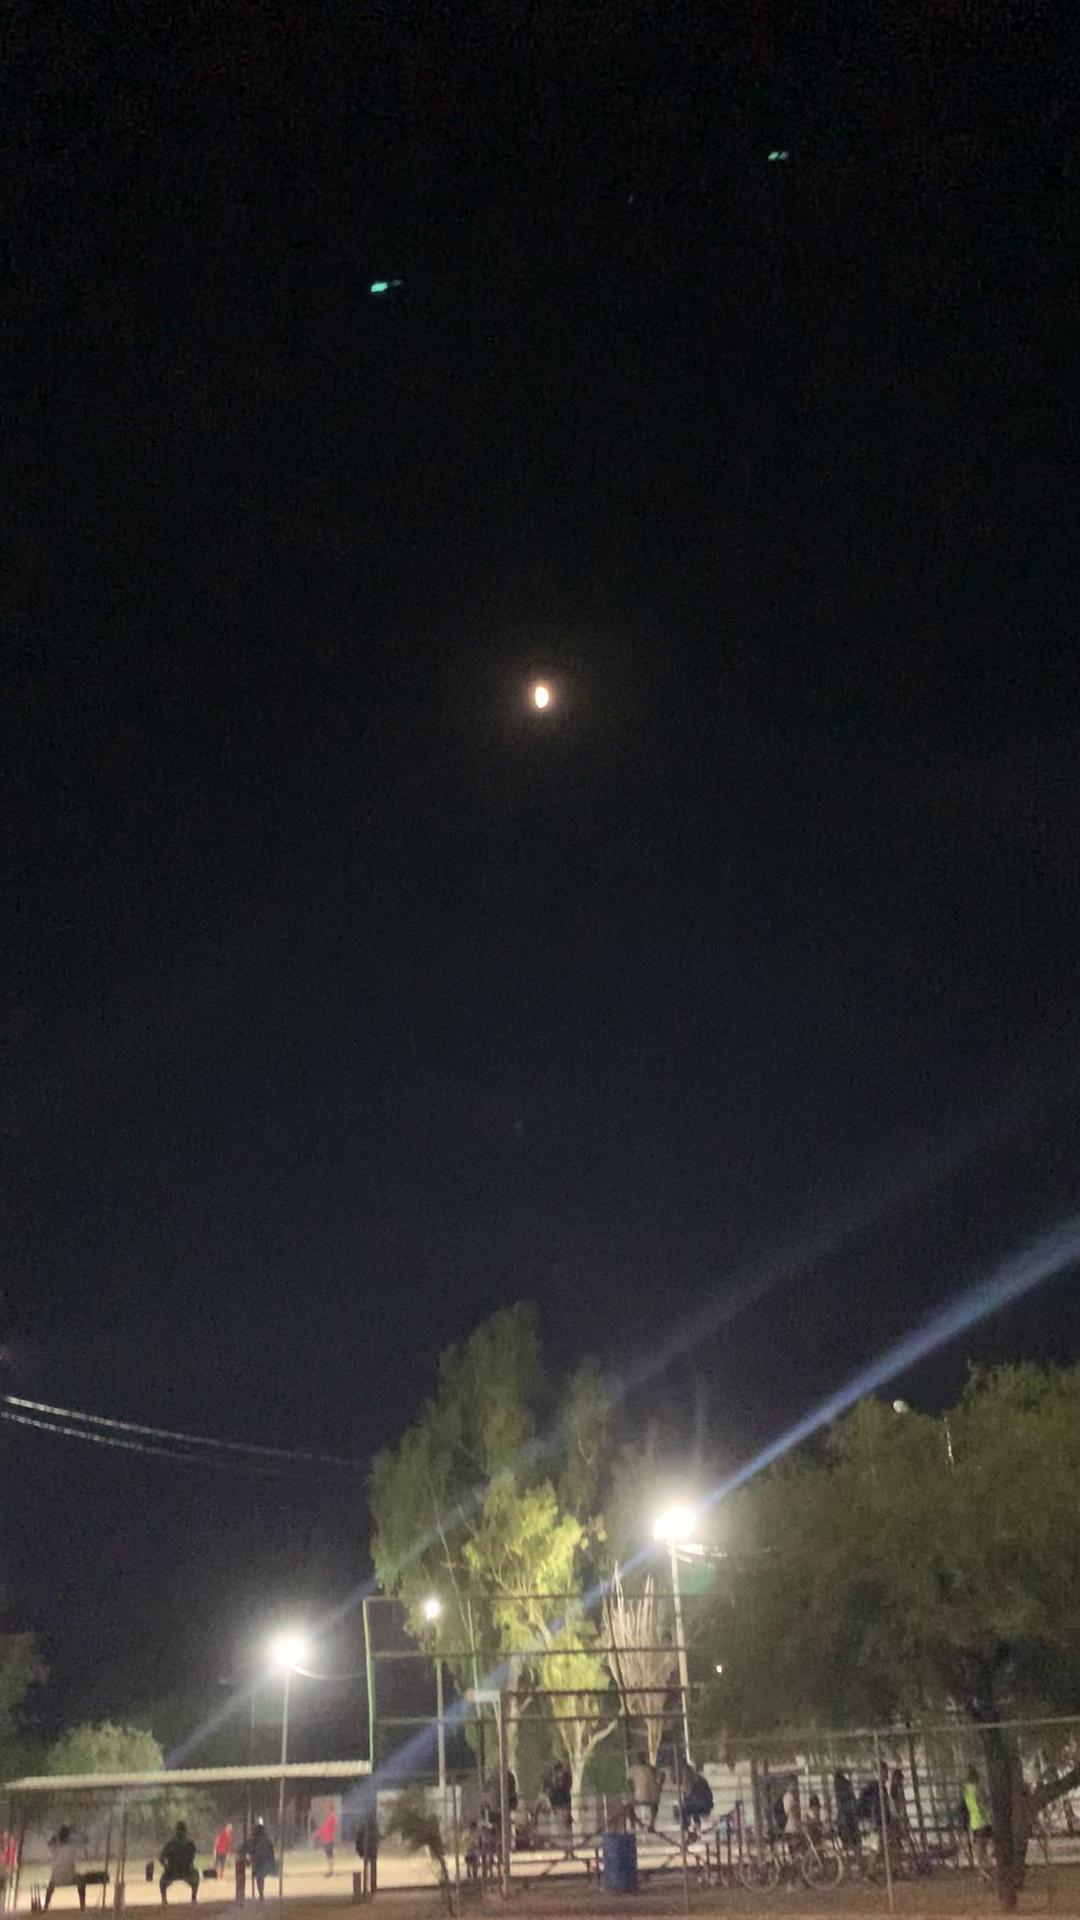moon: (514, 669, 576, 742)
